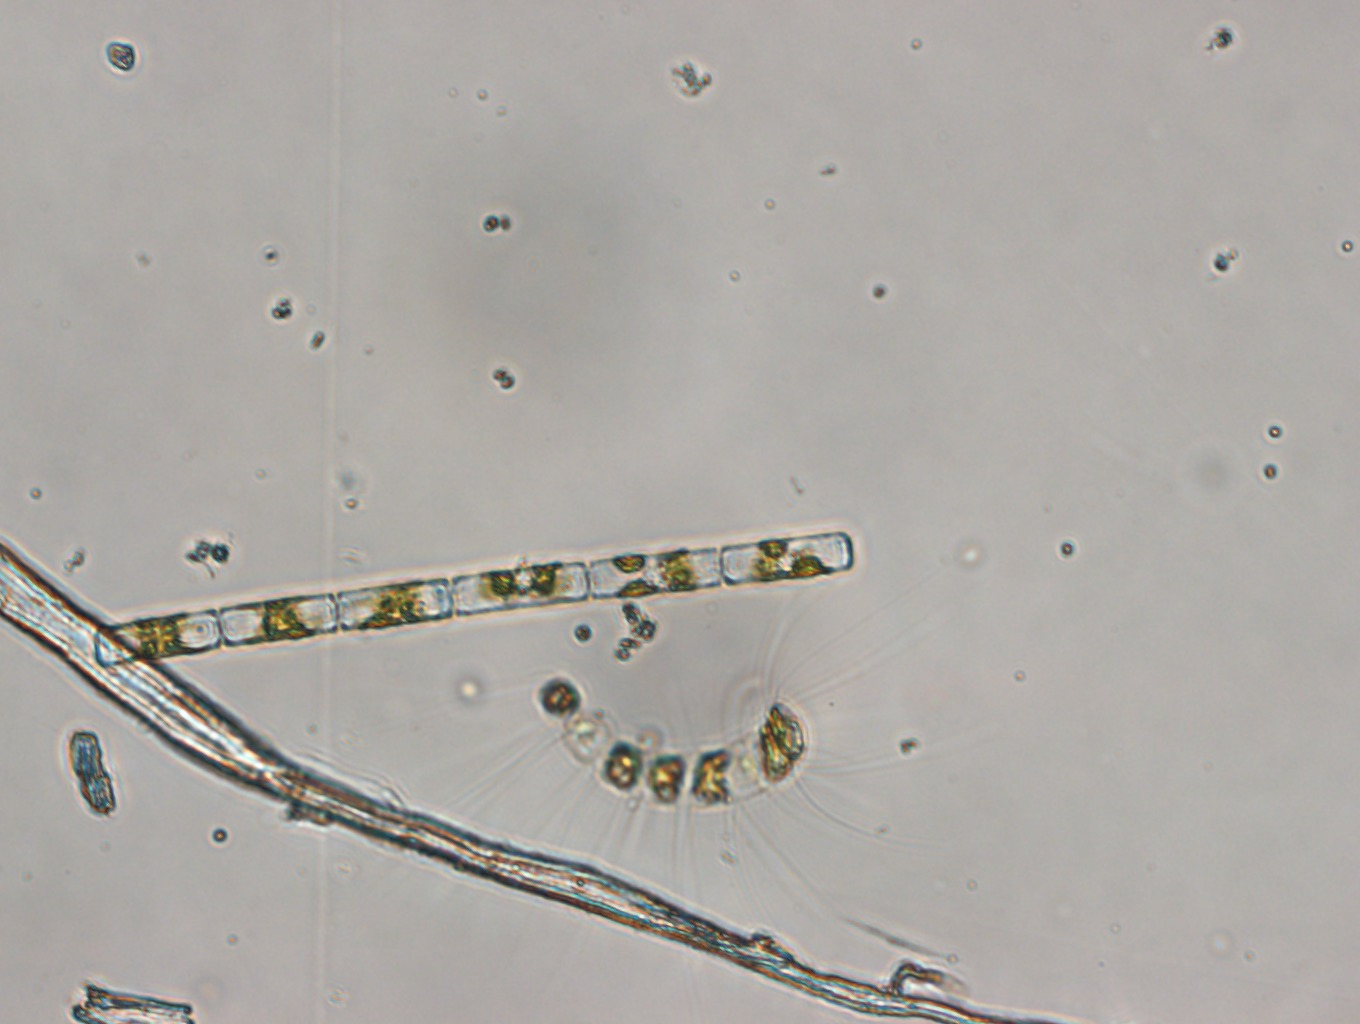chaetoceros: (475, 597, 1019, 856)
